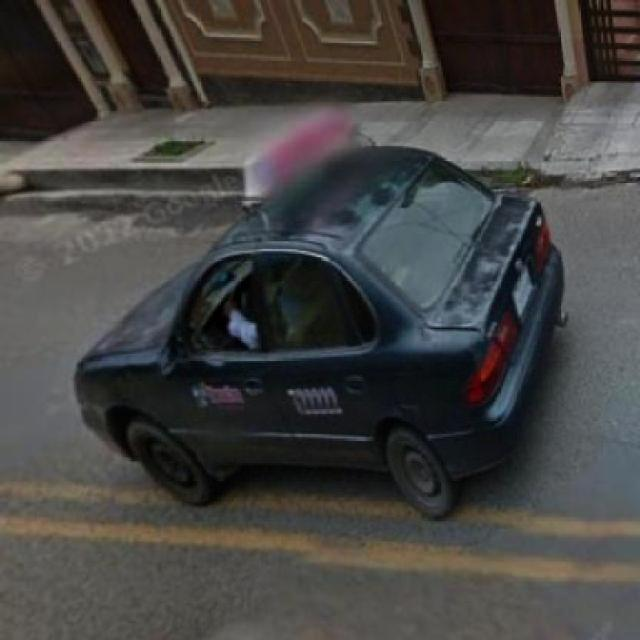car: (69, 169, 569, 517)
